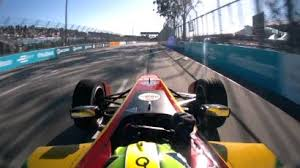f1_car: (22, 71, 287, 168)
